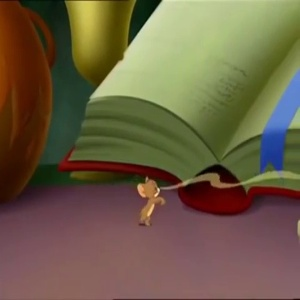Jerry: (134, 174, 161, 199)
